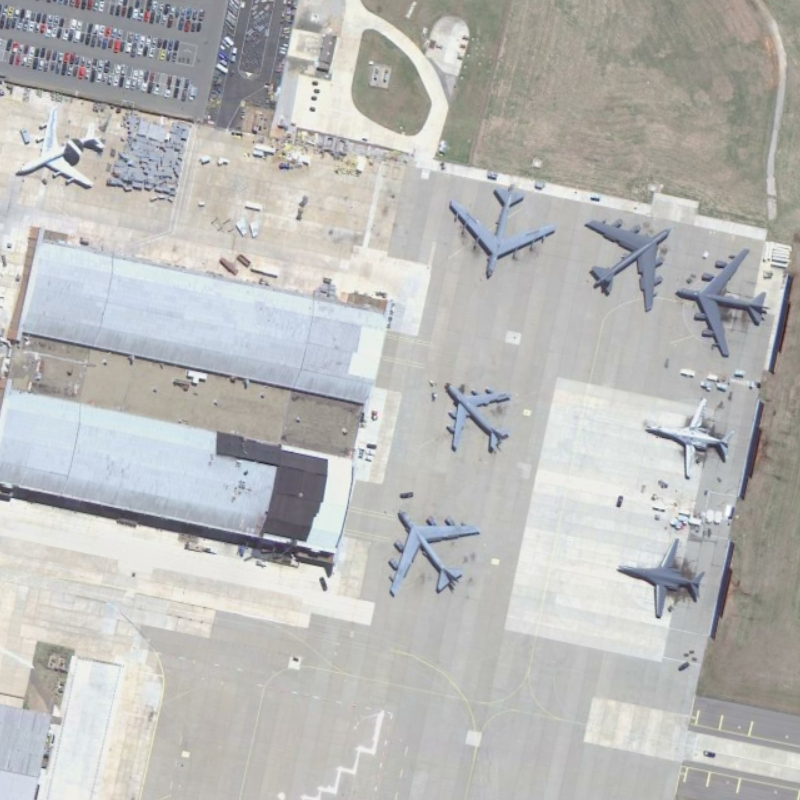A10: (608, 533, 706, 622), (642, 394, 738, 483)
A14: (436, 372, 525, 460)
A7: (9, 100, 114, 191)
A8: (673, 240, 779, 366), (443, 174, 555, 282), (381, 496, 483, 605), (580, 207, 678, 318)
